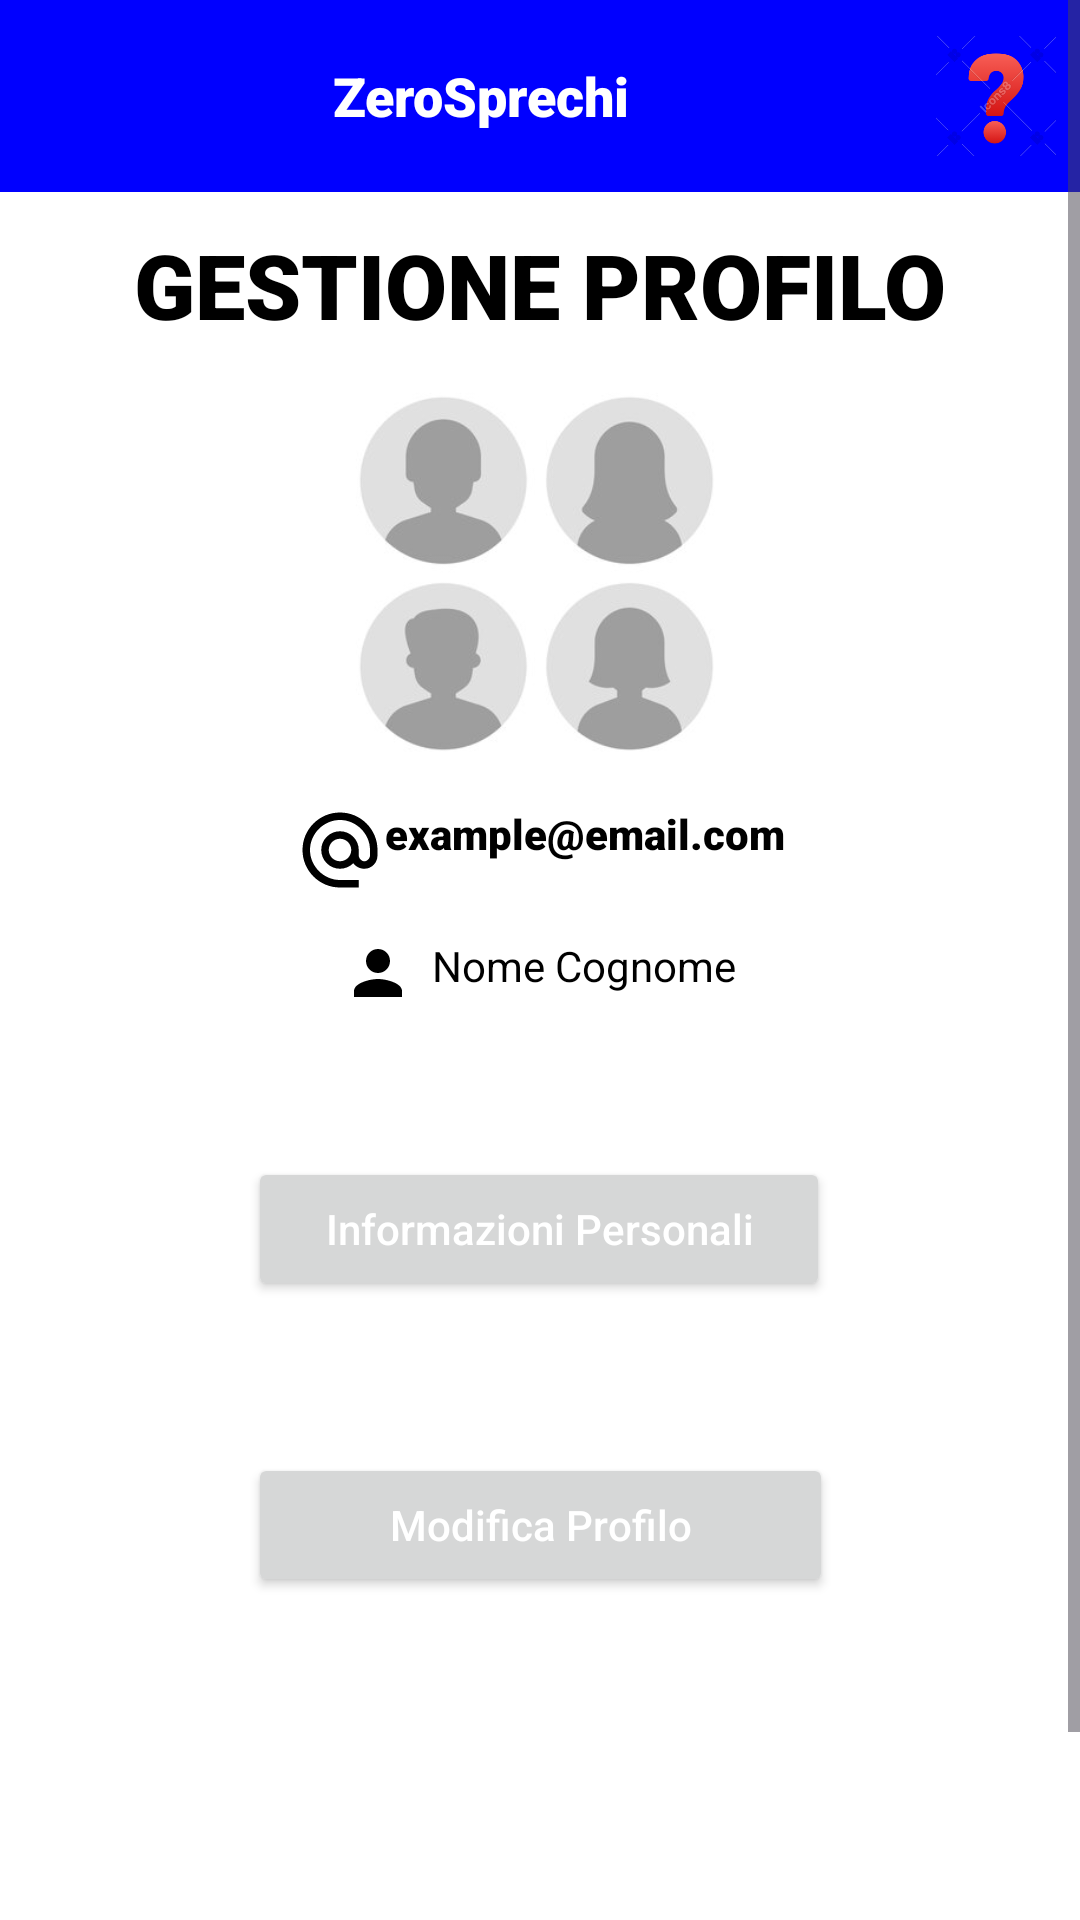

Screen size 1080px×1920px. Icon name, then its center in pixels as (x,y):
help: (996,96)
